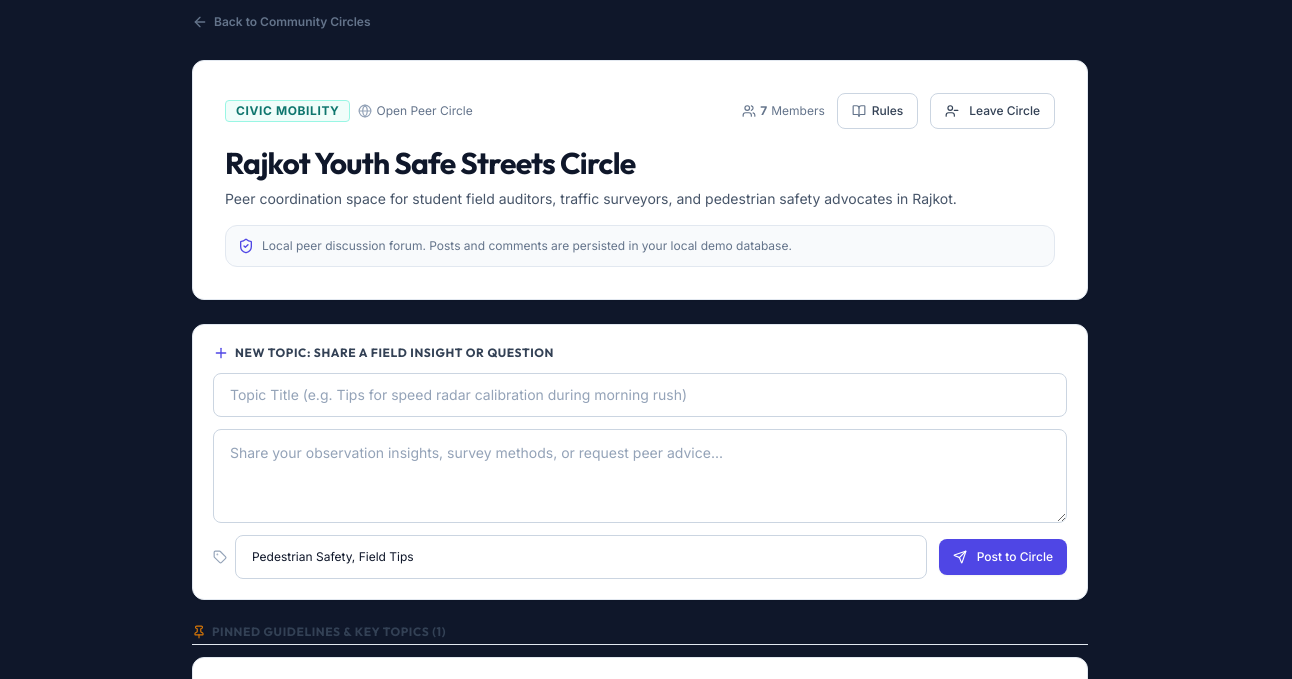
Test: V2 Section 5 & 14 Title-First Browsing Integration Tests › CommunityGroupDetailPage Title-First Browsing › retains New Topic posting and membership toggle on CommunityGroupDetailPage
Expected: the text "New Topic: Share a Field Insight or Question" is shown, [235,345,554,361]
Replace the text in the field with placeholder "Topic Title" with "Speed Hump Clearance Measurements" at {"x": 640, "y": 395}, box [213,373,1067,417]
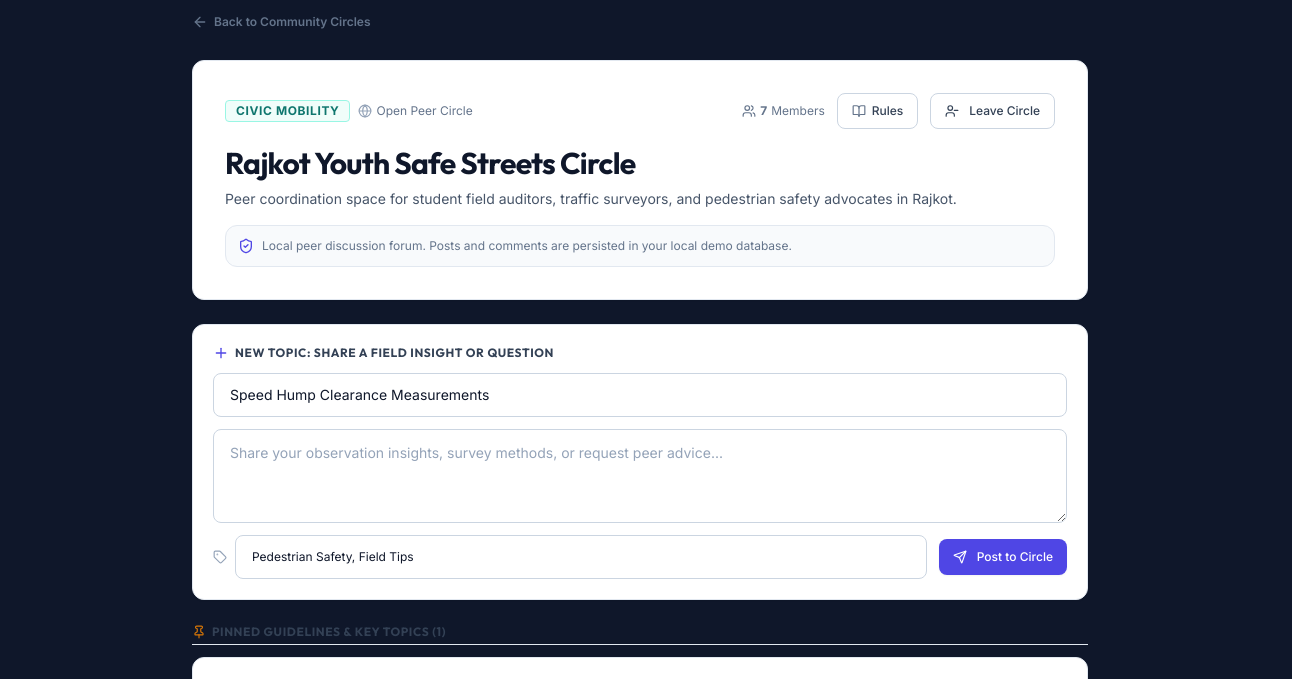
Replace the text in the text box with placeholder "Share your observation insights" with "Measured 12cm height at entrance, exceeding the 10cm IRC standard." at {"x": 640, "y": 476}, box [213,429,1067,523]
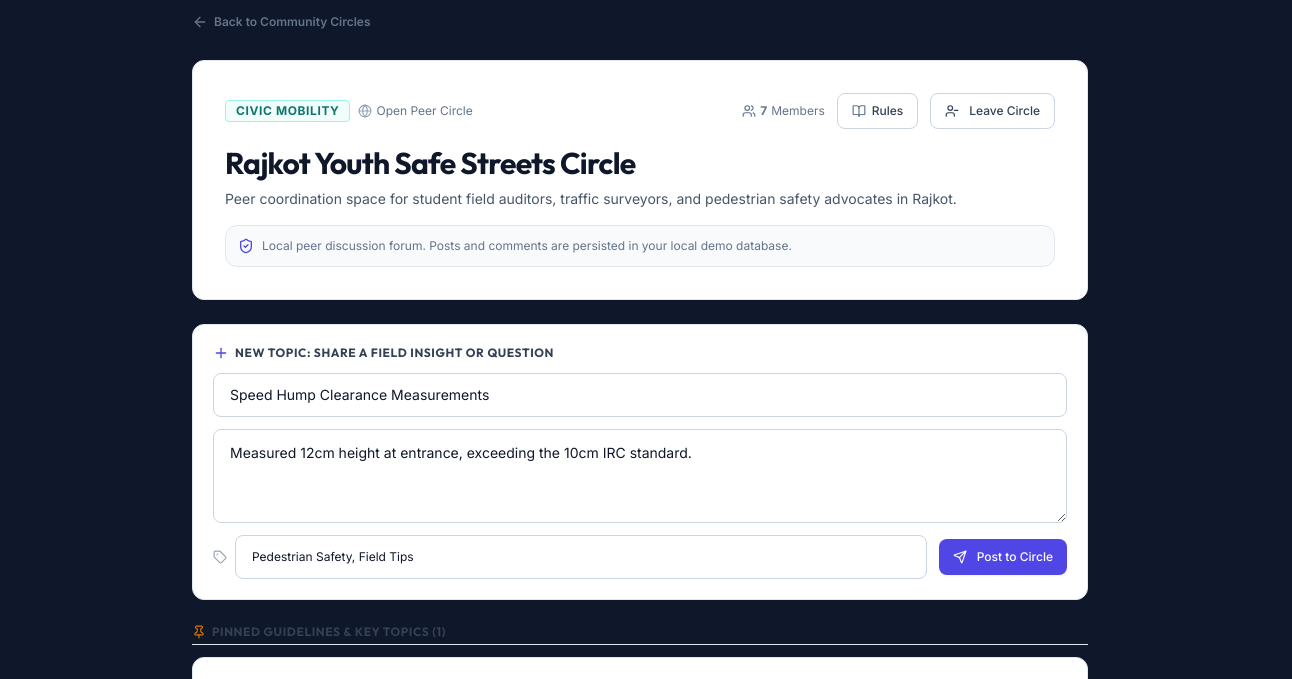
Click the button "Post to Circle" at {"x": 1003, "y": 557}, box [939,539,1067,575]
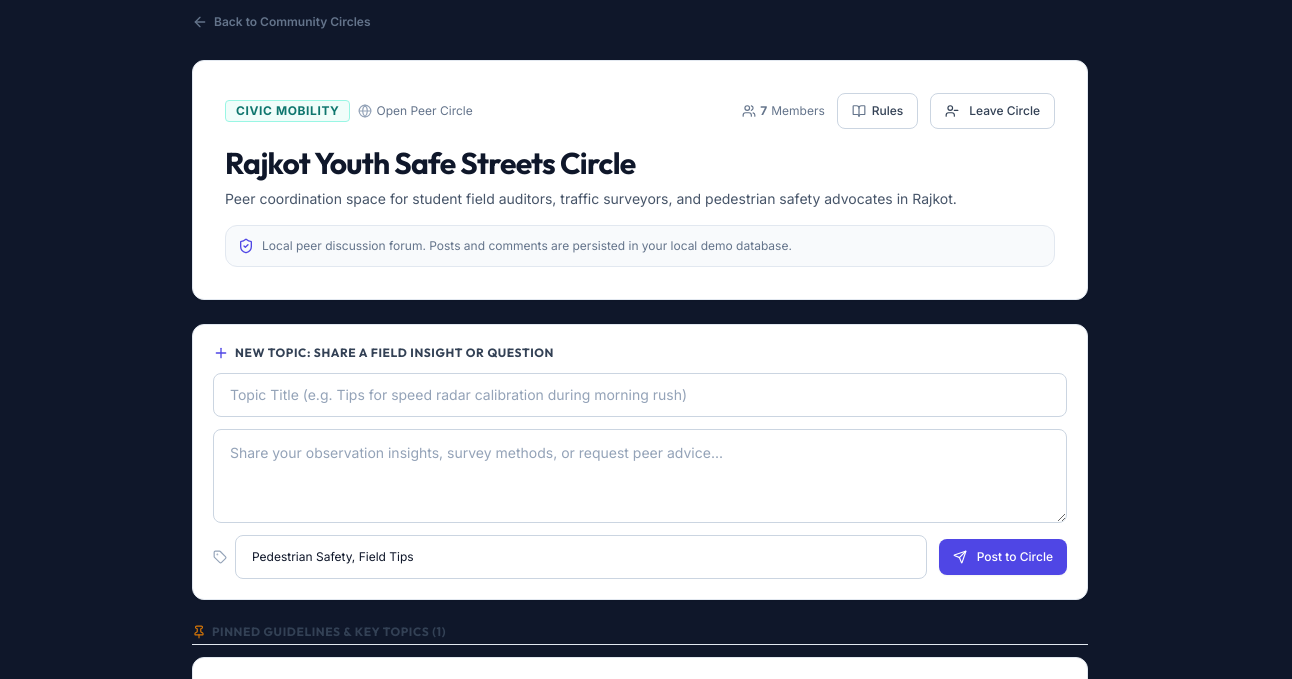
// Toggle membership button
Click the button "Leave Circle" at {"x": 993, "y": 111}, box [930,93,1055,129]
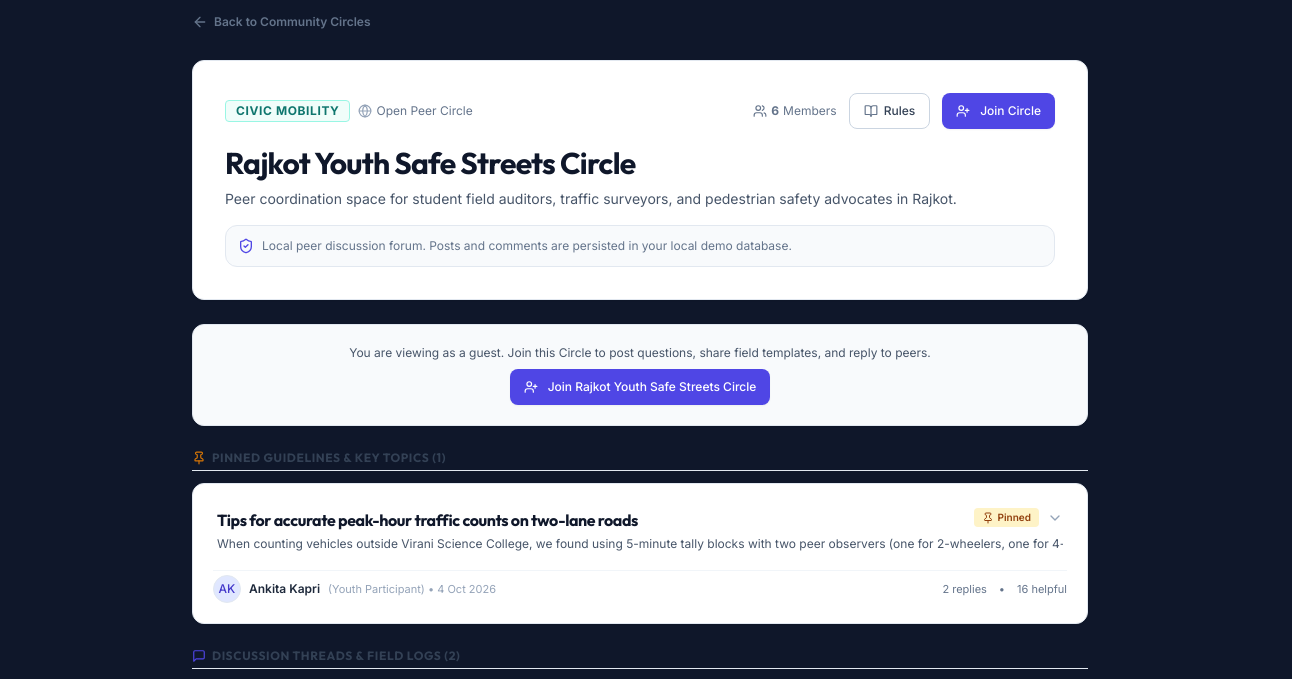
Now the button "Join Rajkot Youth Safe Streets Circle" is shown, box [510,369,770,405]
